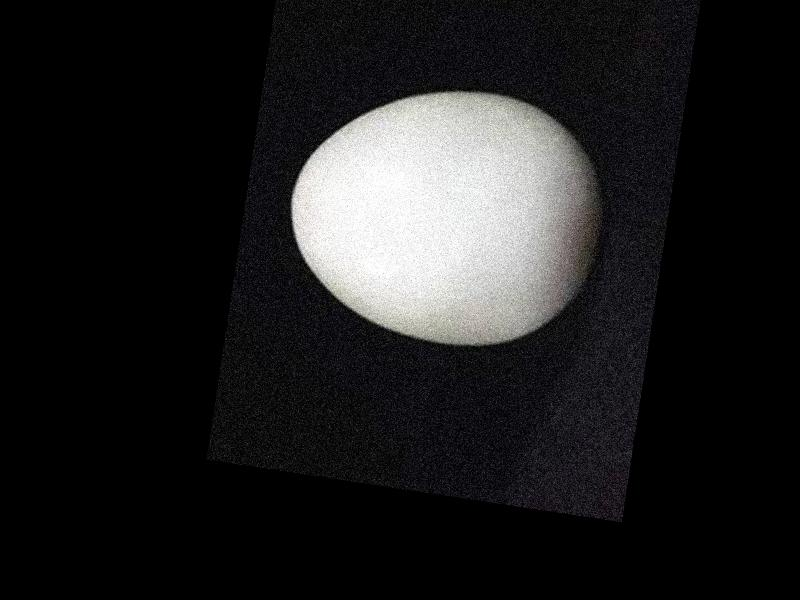Eggs: (276, 70, 621, 362)
